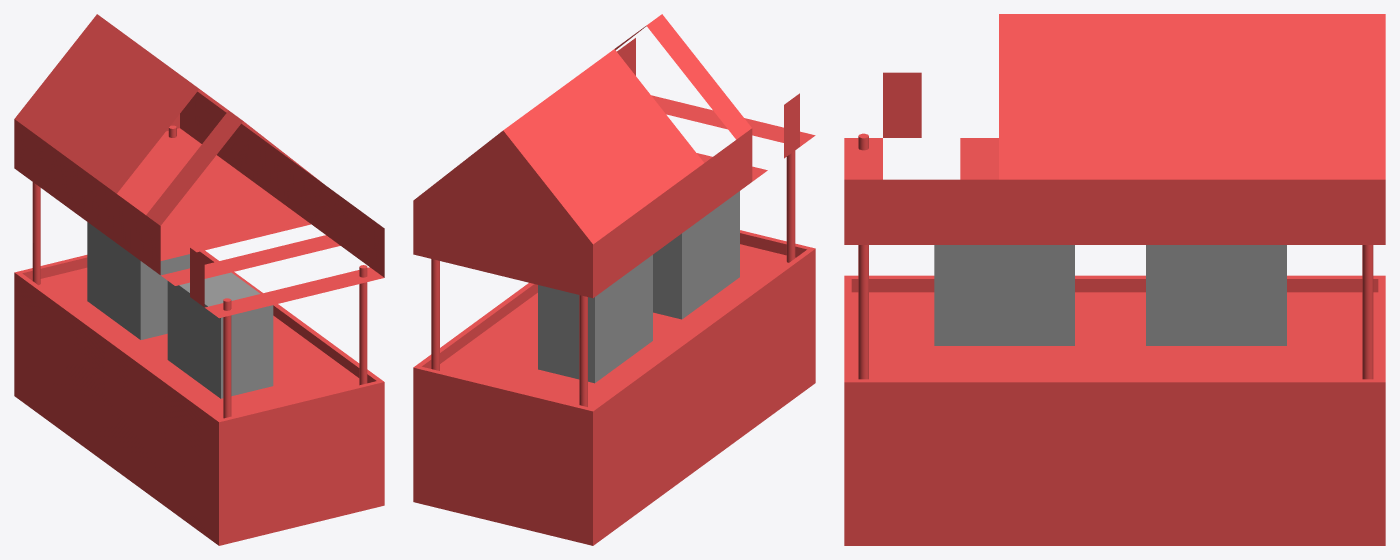
The model's file is 12 Food_Cart.FBX.
The picture shows the model from 3 angles, left to right: view 1: azimuth 30°, elevation 25°; view 2: azimuth 150°, elevation 25°; view 3: azimuth 270°, elevation 25°; orthographic projection. The views are drawn at different scales.
Parts seen in each view (by area): view 1: Food_Cart; view 2: Food_Cart; view 3: Food_Cart.
Part boxes in pixels (x1,y1,x2,y2): Food_Cart: [14, 14, 384, 545]; Food_Cart: [413, 14, 815, 545]; Food_Cart: [844, 14, 1385, 545].
Bounding box in the file's own units: 700 × 1463 × 1500.
